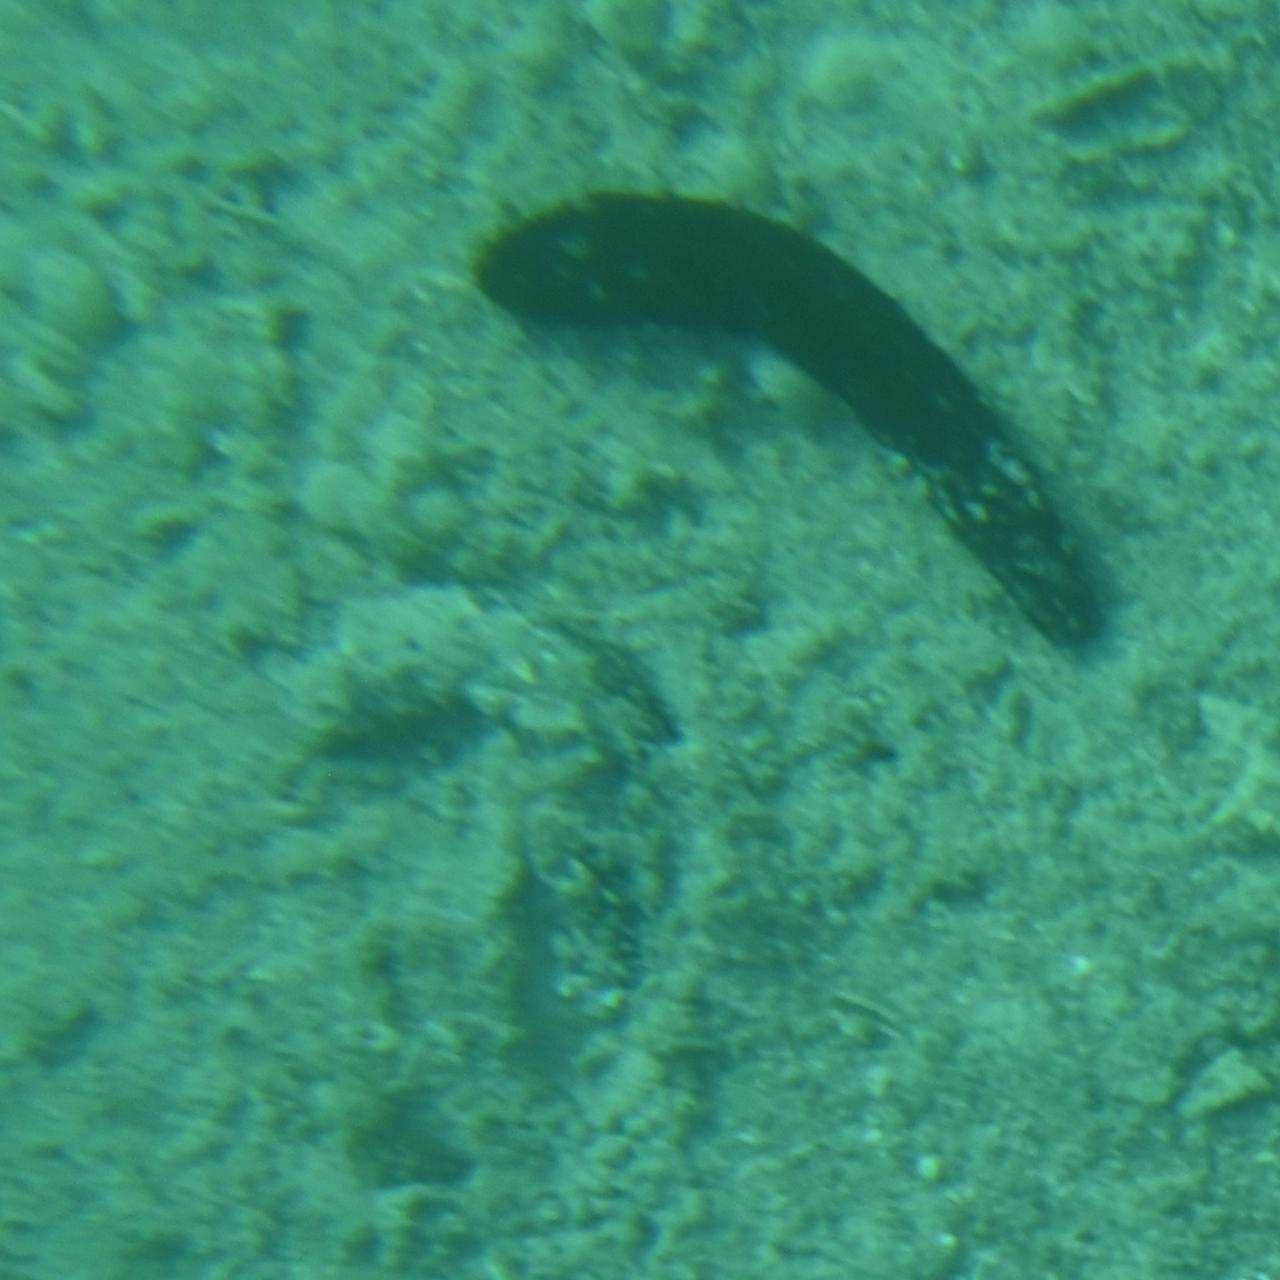Holothuria tubulosa: (472, 181, 1119, 648), (281, 593, 687, 1141)
